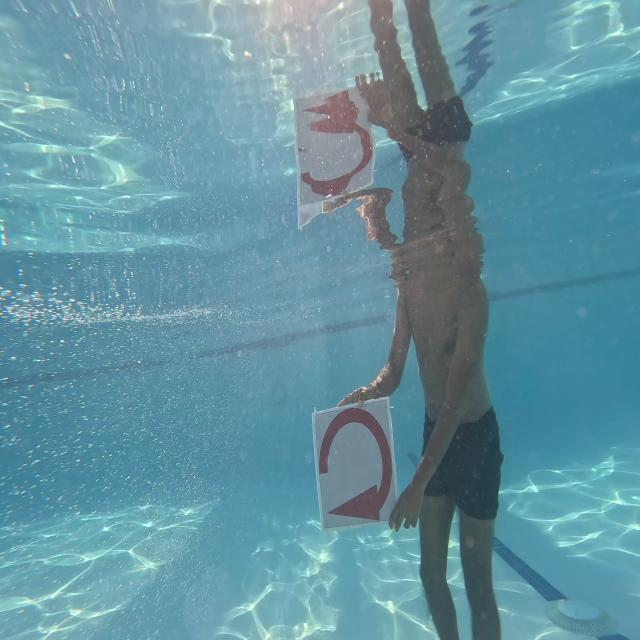red_side: (310, 403, 397, 526)
